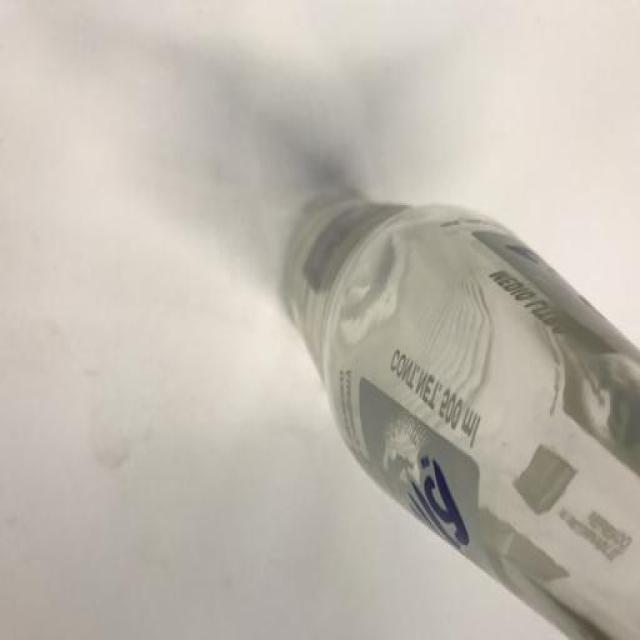glass: (278, 183, 640, 640)
